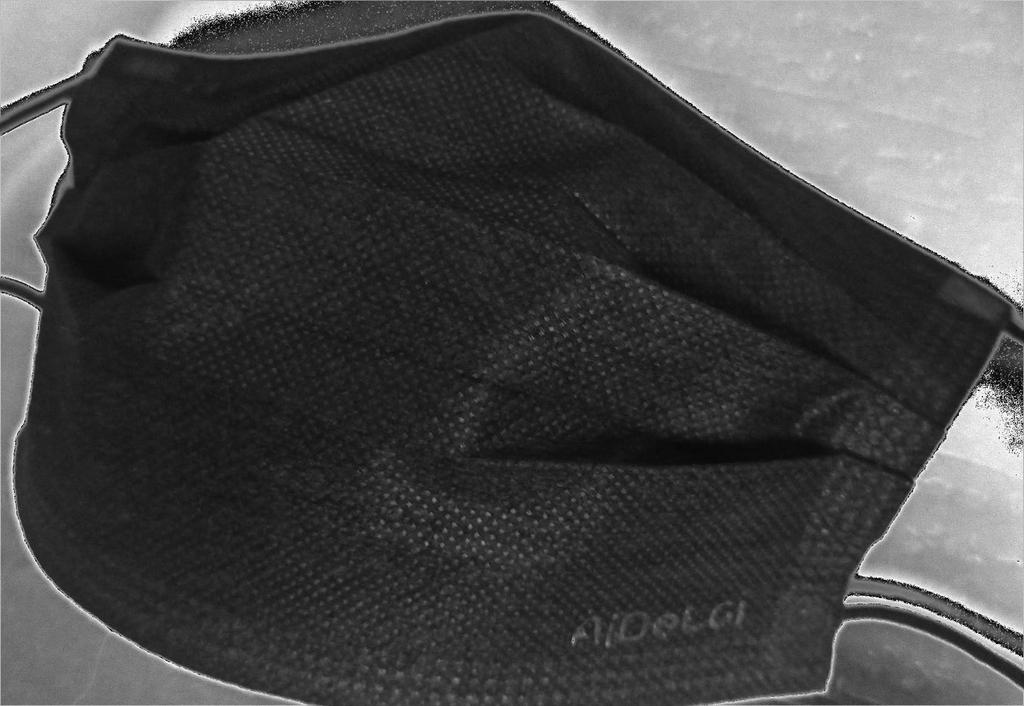Low GSM: (12, 8, 1018, 706)
